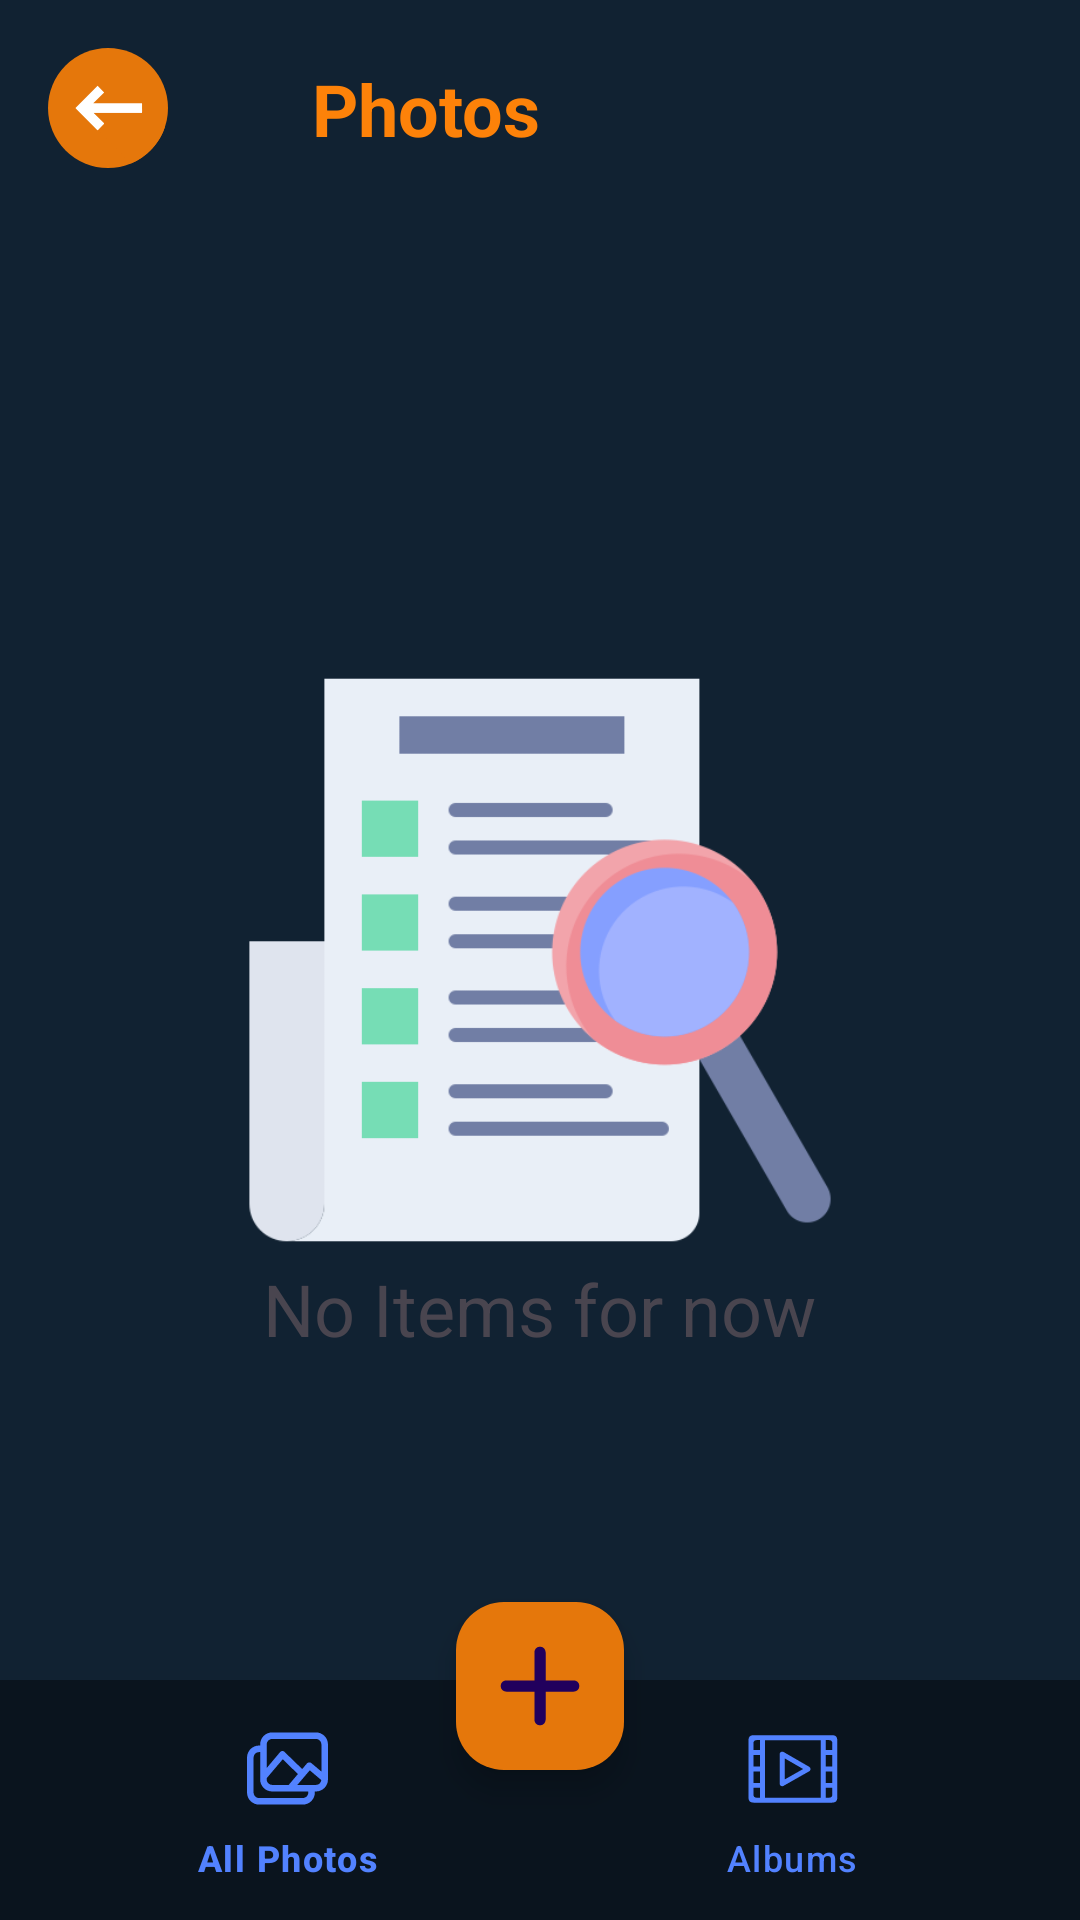

Screen size 1080px x 1920px. Icon name, then its box in pixels as (x1, y1, x2, y2):
add: (456, 1602, 624, 1770)
back arrow: (48, 48, 168, 168)
